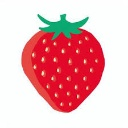strawberry: (19, 20, 107, 113)
